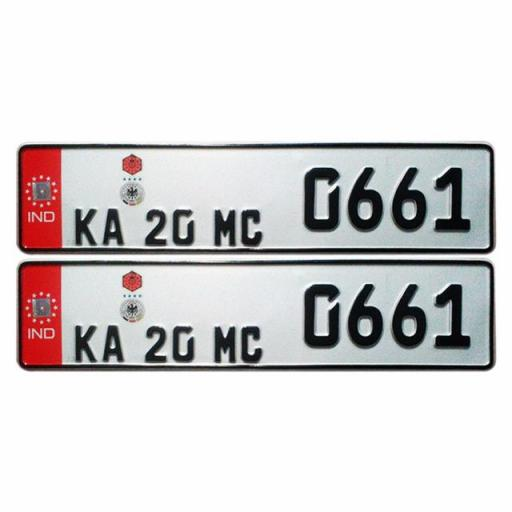number plate: (14, 139, 501, 258), (9, 264, 497, 372)
